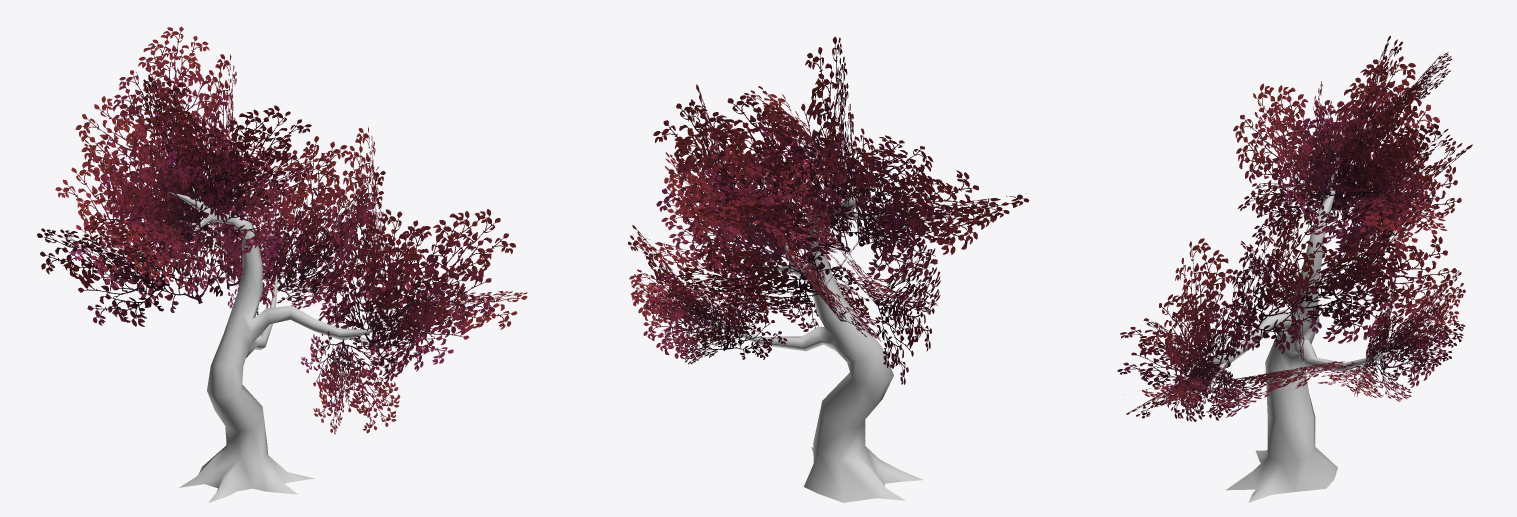
The model's file is SM_EN_2006_shu03.FBX.
The picture shows the model from 3 angles, left to right: view 1: azimuth 30°, elevation 25°; view 2: azimuth 150°, elevation 25°; view 3: azimuth 270°, elevation 25°; orthographic projection. The views are drawn at different scales.
Parts seen in each view (by area): view 1: SM_EN_2006_shu0302, SM_EN_2006_shu0301; view 2: SM_EN_2006_shu0302, SM_EN_2006_shu0301; view 3: SM_EN_2006_shu0302, SM_EN_2006_shu0301.
Part boxes in pixels (bbox=[...]): SM_EN_2006_shu0302: bbox=[37, 26, 527, 434]; SM_EN_2006_shu0301: bbox=[167, 186, 403, 502]; SM_EN_2006_shu0302: bbox=[628, 36, 1029, 384]; SM_EN_2006_shu0301: bbox=[703, 186, 923, 502]; SM_EN_2006_shu0302: bbox=[1117, 35, 1472, 421]; SM_EN_2006_shu0301: bbox=[1197, 155, 1390, 502].
Bounding box in the file's own units: 1054 × 973 × 846.
